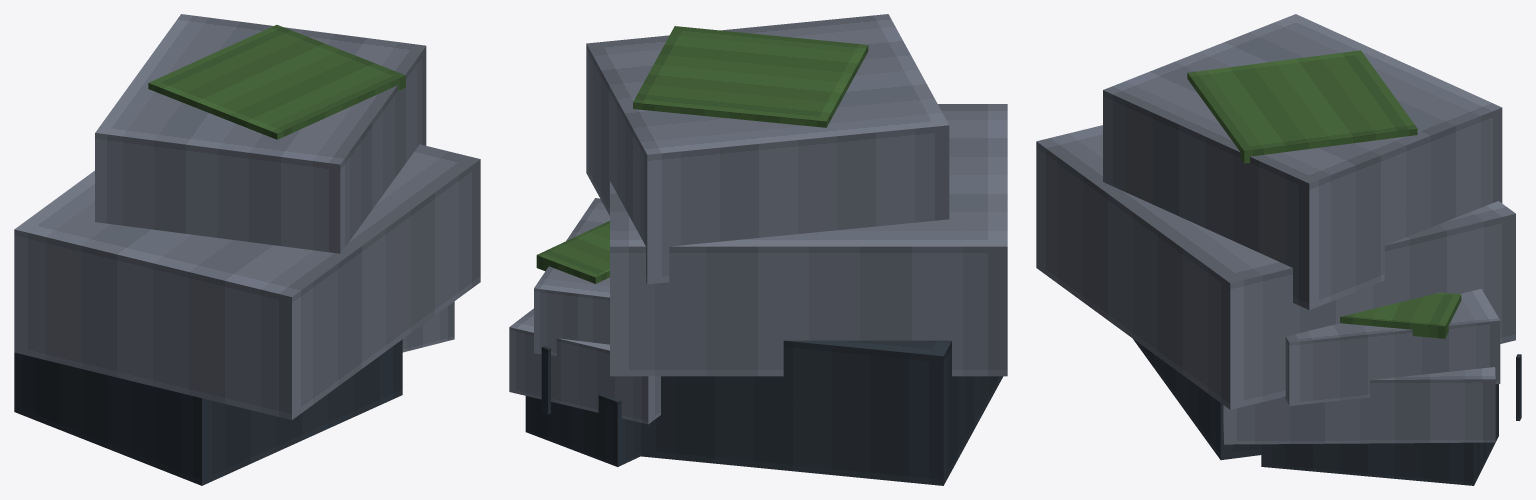
File: rock_large_forest.gltf
The picture shows the model from 3 angles, left to right: view 1: azimuth 30°, elevation 25°; view 2: azimuth 150°, elevation 25°; view 3: azimuth 270°, elevation 25°; orthographic projection. The views are drawn at different scales.
Visible parts, largest first — view 1: root_mesh; view 2: root_mesh; view 3: root_mesh.
Boxes of the visible parts, x1,y1,x2,y2 form: root_mesh: [14, 14, 480, 485]; root_mesh: [509, 14, 1007, 485]; root_mesh: [1036, 14, 1521, 485].
Bounding box in the file's own units: 2.26 × 1.59 × 2.19.
Materials: 1 (1 with a texture image).
